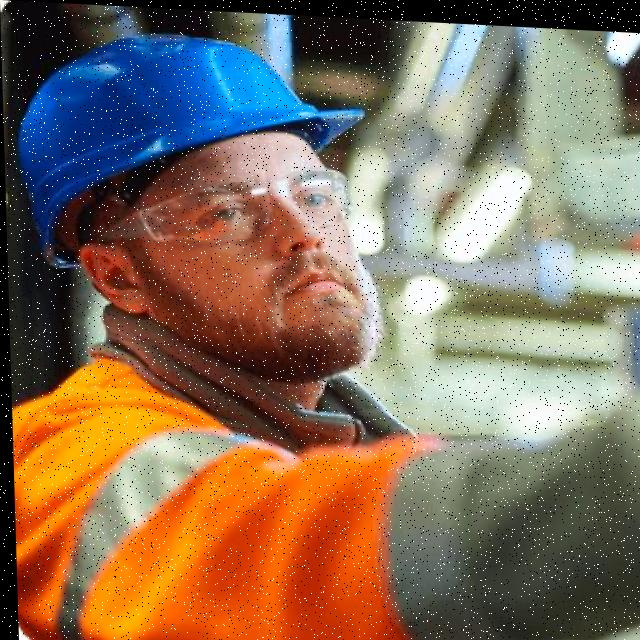illegal_helmet: (0, 10, 396, 396)
